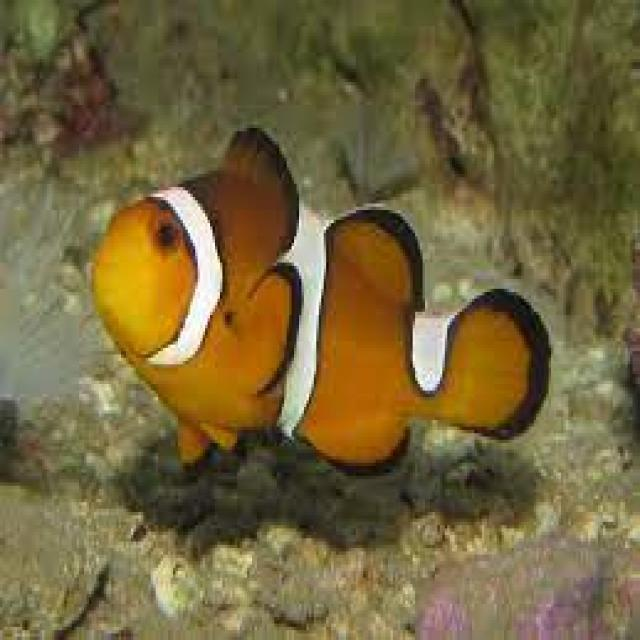ClownFish: (85, 118, 558, 492)
